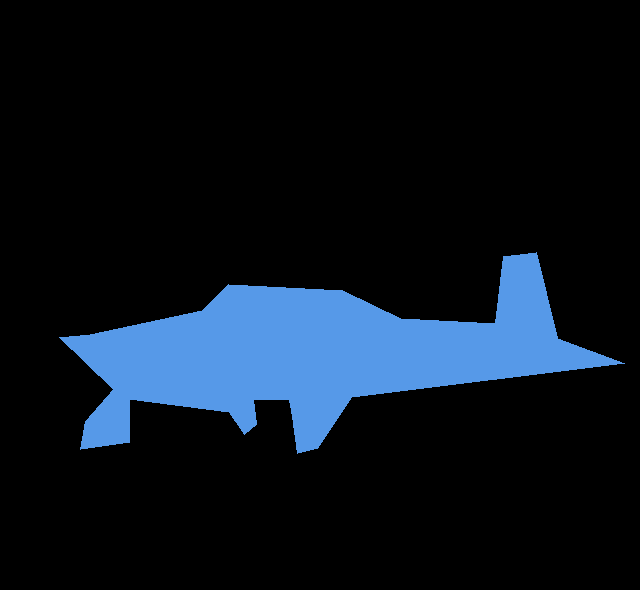Airplane: (59, 252, 624, 454)
